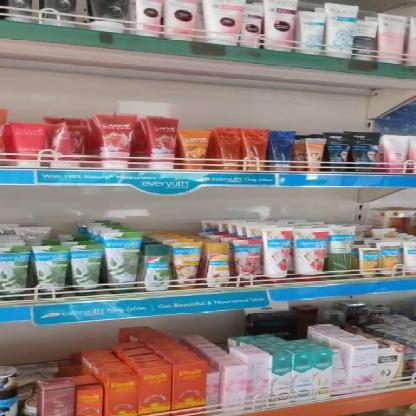EY NATURALS NEEM FACE WASH AY 50G: (105, 232, 143, 292), (67, 245, 103, 292), (33, 248, 69, 292), (0, 254, 27, 298)
